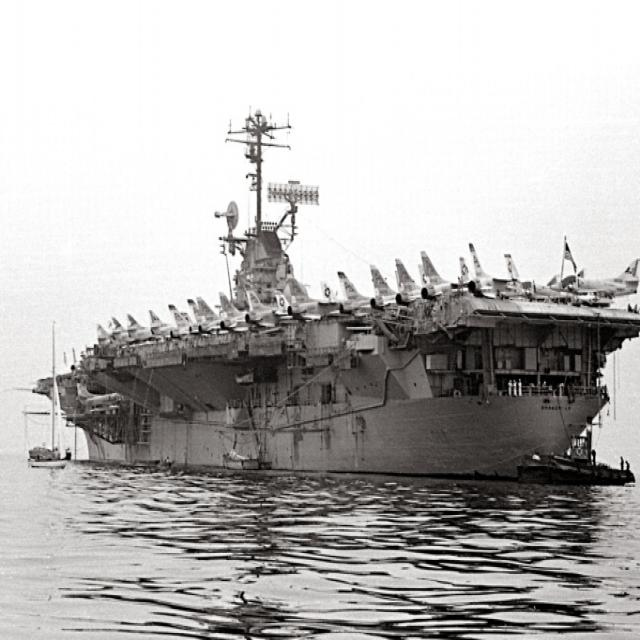Portanaves: (38, 88, 640, 499)
